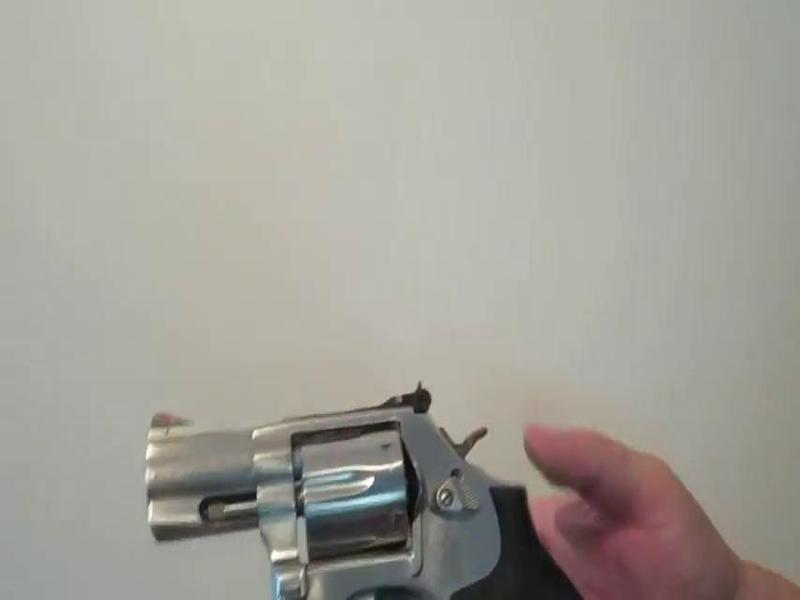Revolver: (122, 370, 550, 579)
